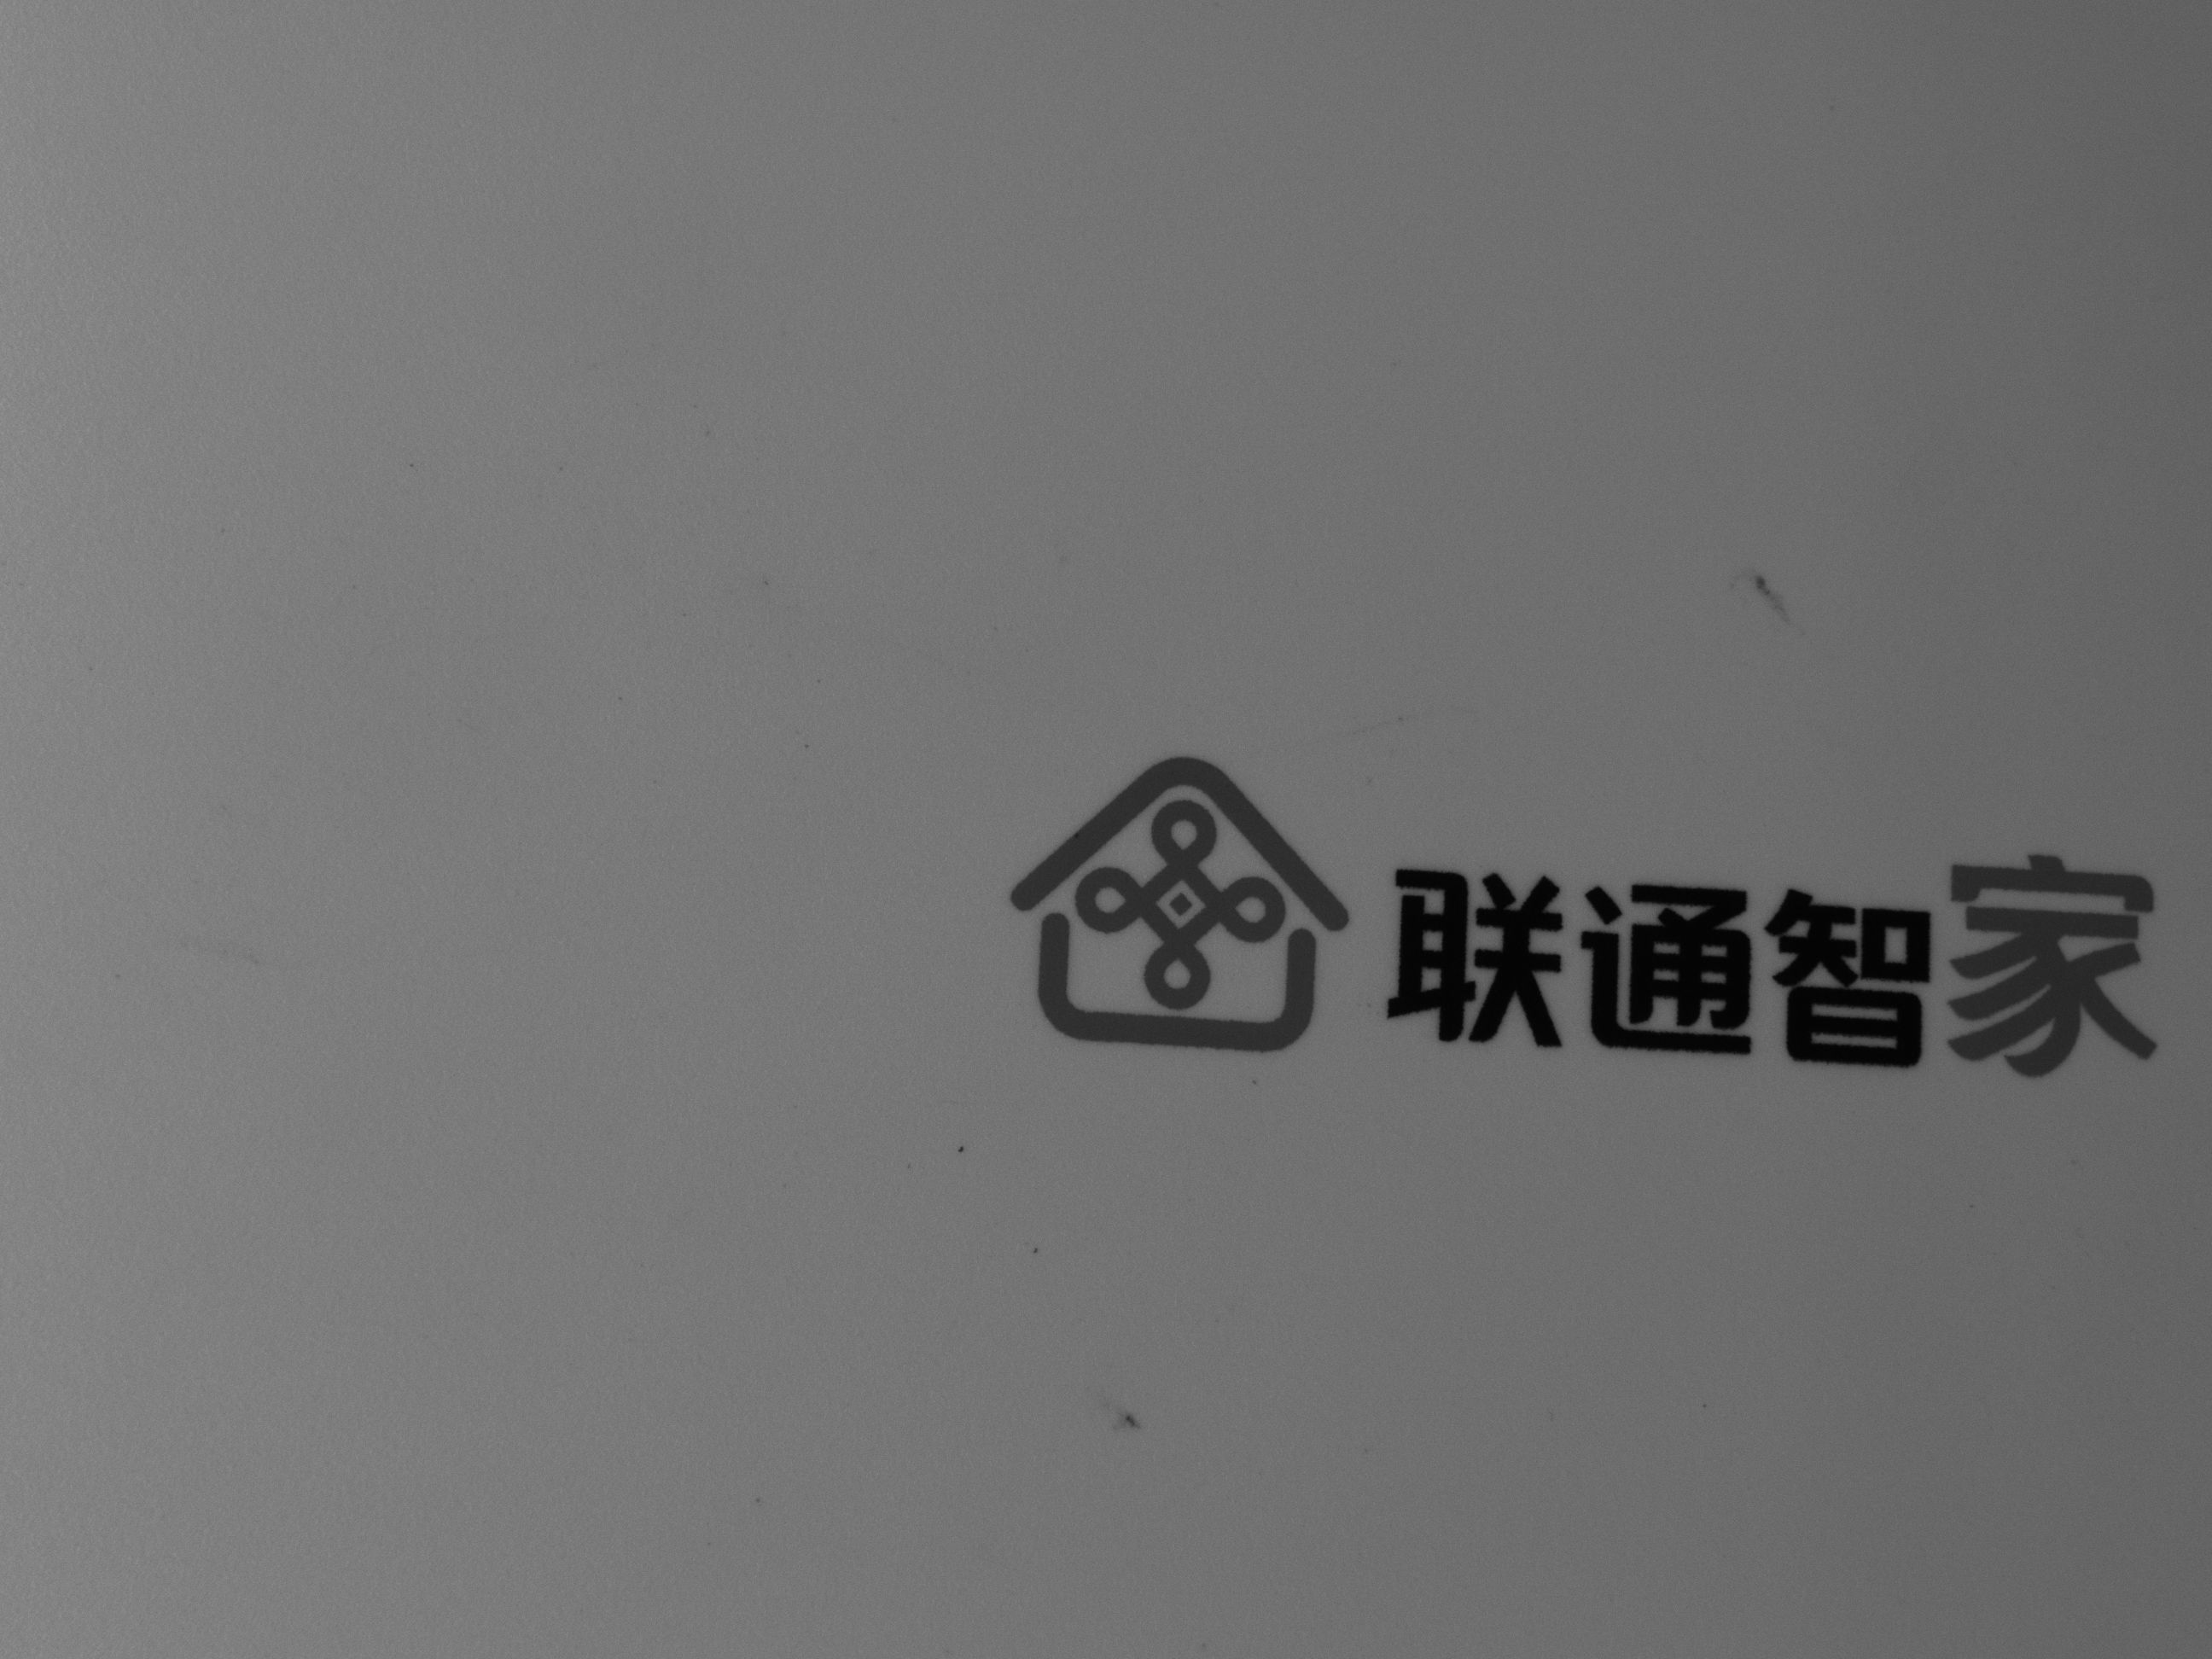BY_F6610Unicome: (963, 732, 2177, 1121)
